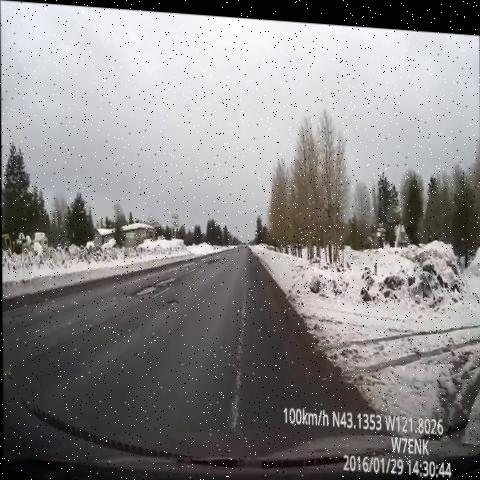pothole: (127, 260, 185, 310), (199, 251, 226, 275), (163, 290, 183, 313)
